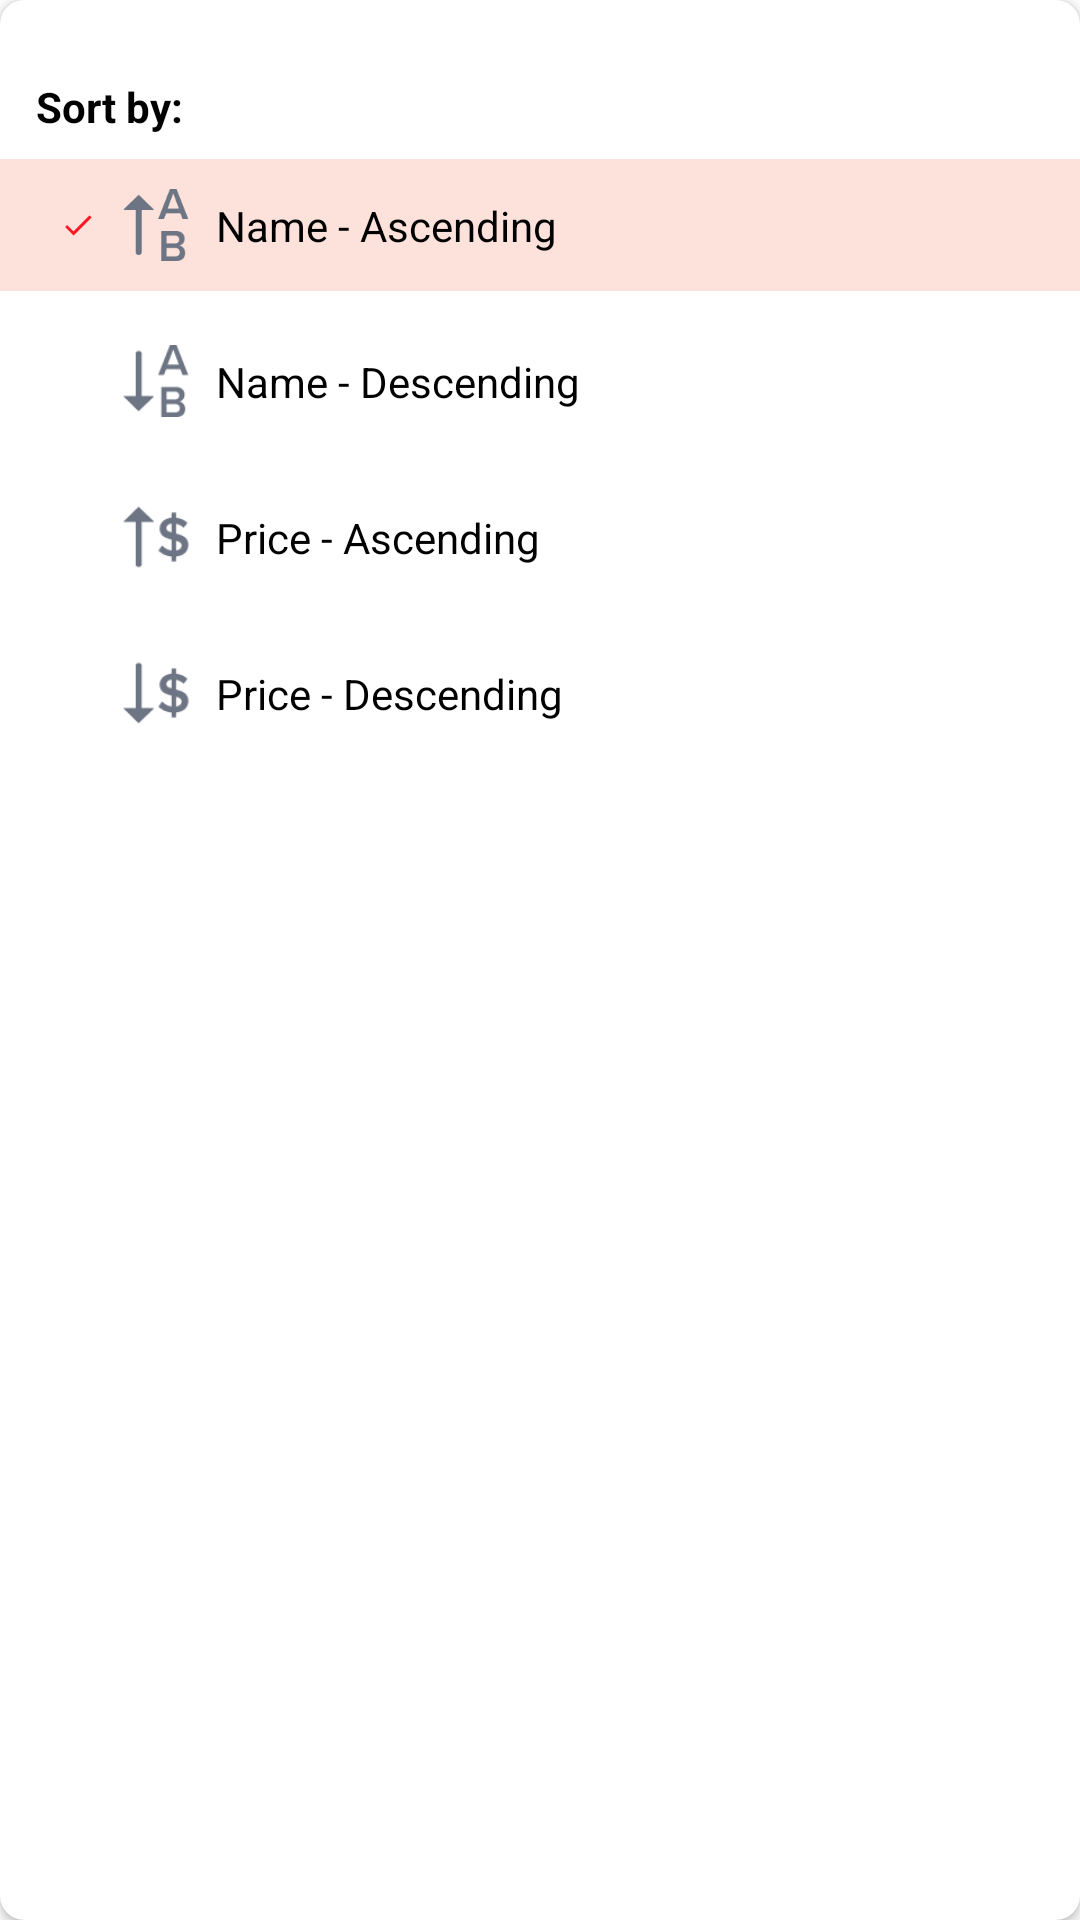

Screen size 1080 × 1920. Icon name, then its box in pixels as (x1=x1, y1=y1, x2=x2, y2=y2):
Displays ascending sorting order by name: (x1=123, y1=189, x2=188, y2=261)
Displays ascending sorting order by price: (x1=123, y1=506, x2=189, y2=568)
Displays descending sorting order by name: (x1=123, y1=345, x2=189, y2=417)
Displays descending sorting order by price: (x1=123, y1=662, x2=189, y2=724)
Shows which sorting order is selected: (x1=65, y1=215, x2=92, y2=236)
